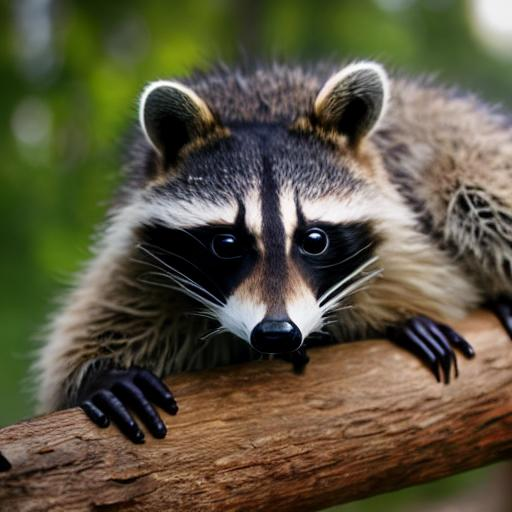raccoon: (22, 52, 512, 367)
